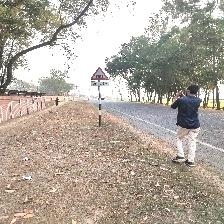Rail-crossing: (91, 67, 110, 86)
